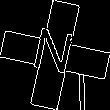N_S: (30, 27, 80, 83)
